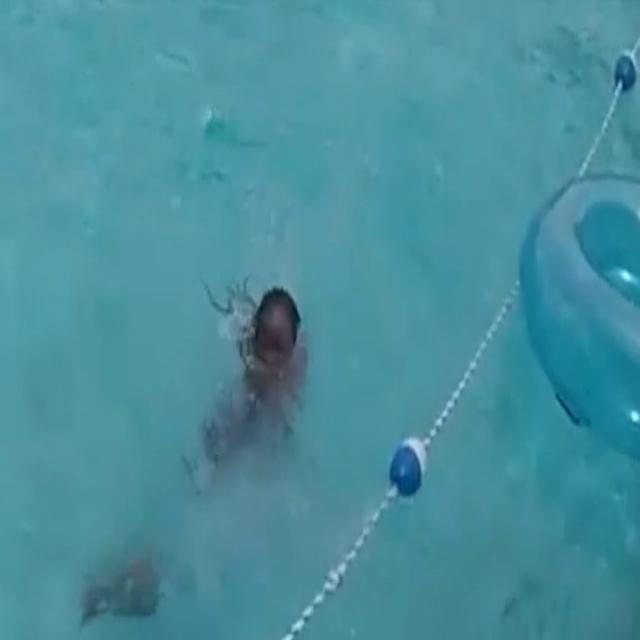drowning: (183, 233, 328, 482)
